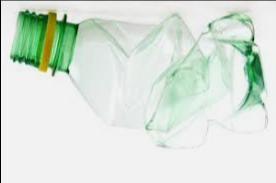Plastic: (5, 2, 273, 157)
